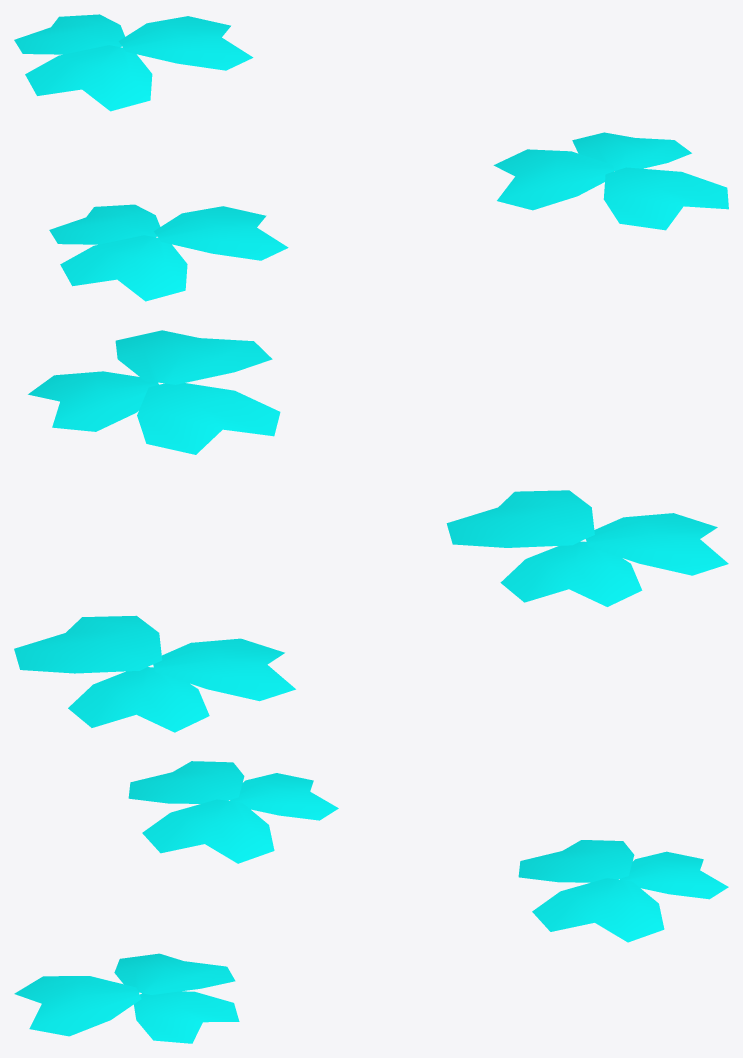
The model's file is FlowerPile_1.fbx.
3 views of the same model, one above another, from view 1: azimuth 30°, elevation 25°; view 2: azimuth 150°, elevation 25°; view 3: azimuth 270°, elevation 25° (orthographic). The views are drawn at different scales.
Visible parts, largest first — view 1: FlowerPile_1; view 2: FlowerPile_1; view 3: FlowerPile_1.
Part boxes in pixels (box(x1,y1,x2,y2)): FlowerPile_1: box(14, 14, 728, 301); FlowerPile_1: box(14, 330, 728, 732); FlowerPile_1: box(14, 761, 728, 1043).
Bounding box in the file's own units: 447 × 10.2 × 479.
